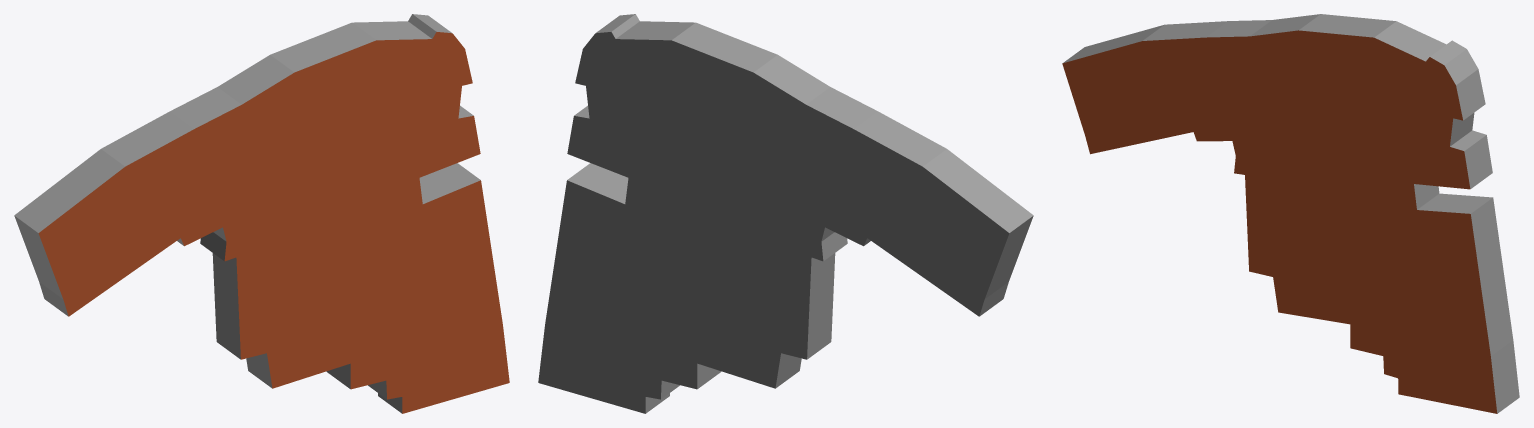
File: construction_7083_assumed_A_Casa_h6m.obj
The picture shows the model from 3 angles, left to right: view 1: azimuth 30°, elevation 25°; view 2: azimuth 150°, elevation 25°; view 3: azimuth 330°, elevation 25°; orthographic projection. The views are drawn at different scales.
Visible parts, largest first — view 1: construction_7083_assumed_A_Casa; view 2: construction_7083_assumed_A_Casa; view 3: construction_7083_assumed_A_Casa.
Part boxes in pixels (x1,y1,x2,y2): construction_7083_assumed_A_Casa: [14, 14, 509, 413]; construction_7083_assumed_A_Casa: [538, 14, 1033, 413]; construction_7083_assumed_A_Casa: [1062, 14, 1519, 413].
Bounding box in the file's own units: 67.1 × 51.7 × 6.
